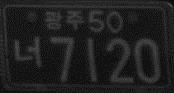0: (134, 38, 161, 84), (106, 10, 124, 34)
1: (86, 37, 99, 84)
2: (105, 37, 134, 85)
5: (88, 10, 105, 32)
7: (47, 34, 73, 83)
광주_O: (44, 9, 83, 32)
너: (13, 34, 42, 68)
